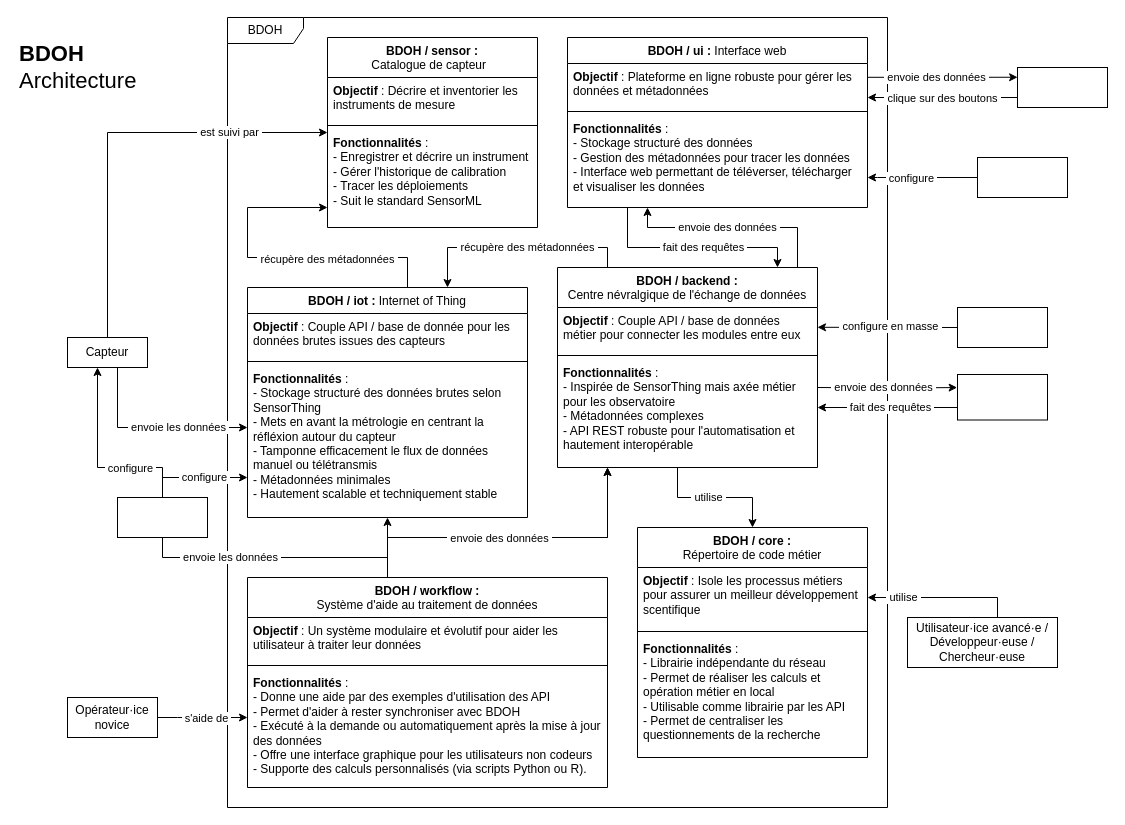
Some shapes in this 1125 by 825 pixel diagram are drawn without their labels. Each missing label, with the centre of its shape:
"Gestionnaire avancé·e" belongs at (x=1002, y=327).
"Gestionnaire novice" belongs at (x=1022, y=177).
"O pérateur·ice avancé·e" belongs at (x=162, y=517).
"Utilisateur·ice avancé·e" belongs at (x=1002, y=397).
"Utilisateur·ice novice" belongs at (x=1062, y=87).
